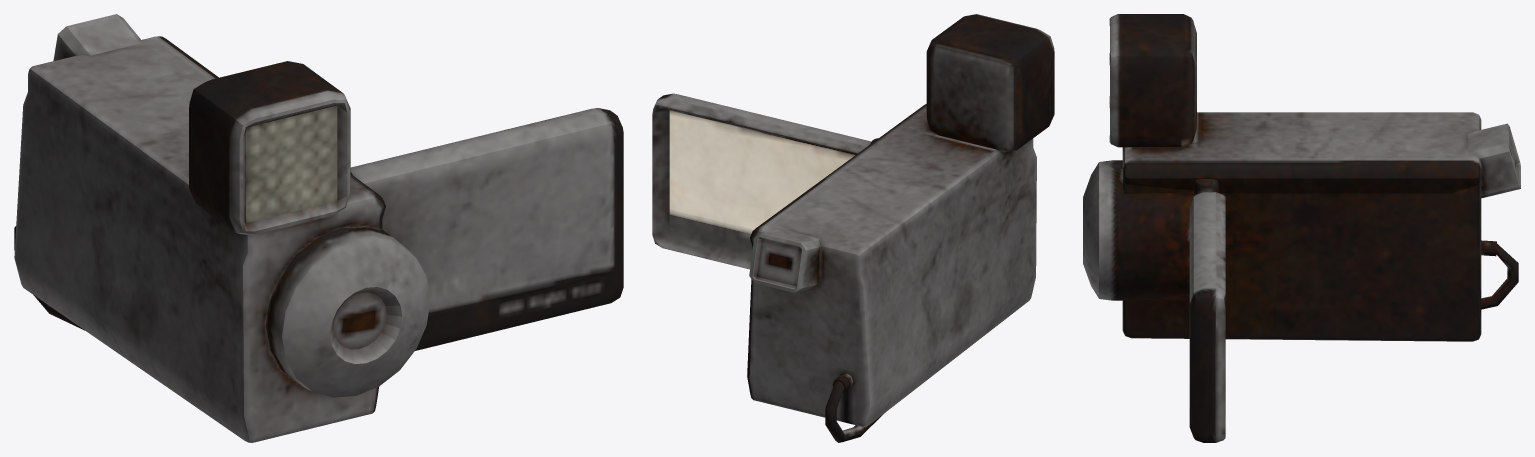
File: low_poly_outlast_camera.glb
3 renders of one model, left to right at view 1: azimuth 30°, elevation 25°; view 2: azimuth 150°, elevation 25°; view 3: azimuth 270°, elevation 25°, orthographic. The views are drawn at different scales.
Visible parts, largest first — view 1: camera_tri; view 2: camera_tri; view 3: camera_tri.
Part boxes in pixels (box(x1,y1,x2,y2)): camera_tri: box(14, 14, 623, 442); camera_tri: box(652, 14, 1054, 442); camera_tri: box(1083, 14, 1520, 442).
Size of the model in its own units: 0.4377 by 0.3416 by 0.4619.
Materials: 1 (1 with a texture image).
